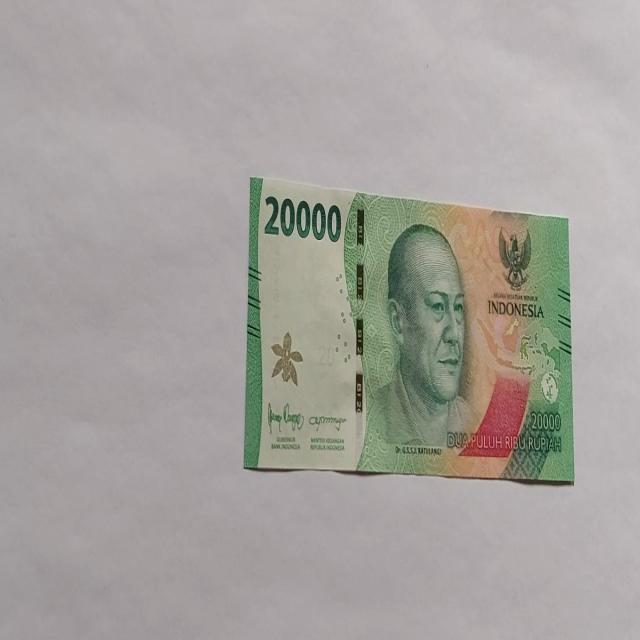dua puluh ribu rupiah: (243, 174, 574, 483), (358, 220, 480, 470)
